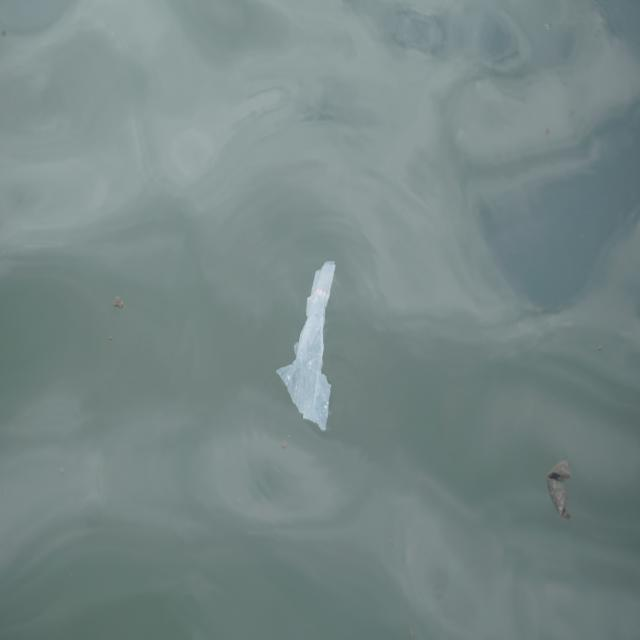Kantong Plastik: (278, 249, 340, 457)
